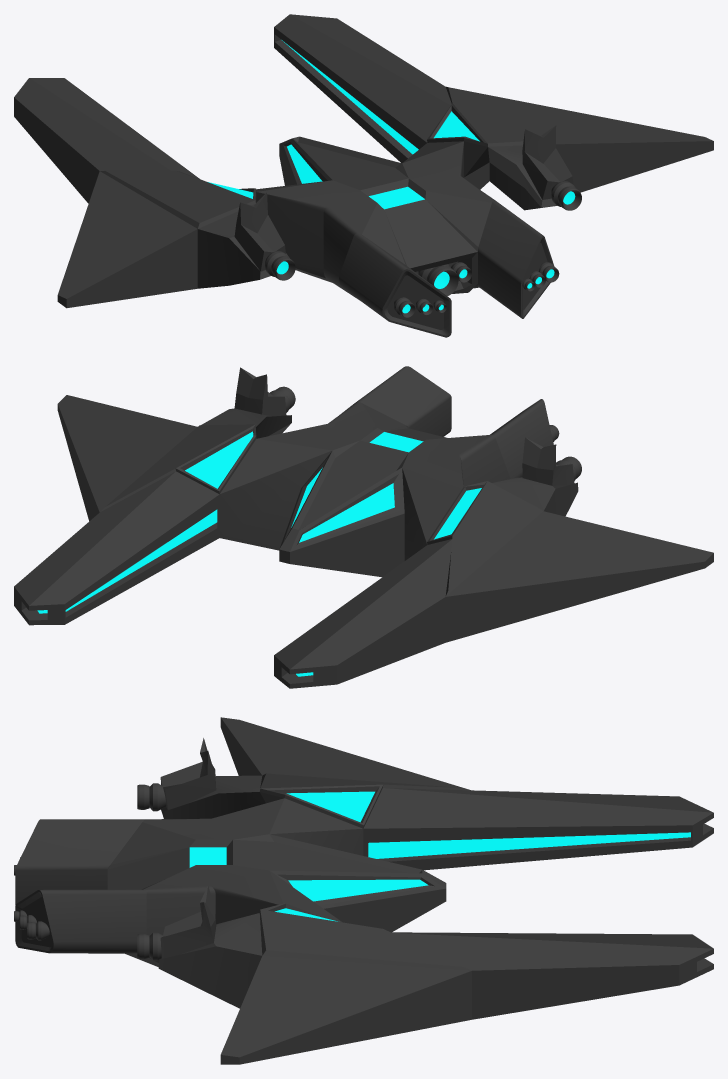
Rendered from SpaceShip_1.fbx.
The picture shows the model from 3 angles, top to bottom: view 1: azimuth 30°, elevation 25°; view 2: azimuth 150°, elevation 25°; view 3: azimuth 270°, elevation 25°; orthographic projection. The views are drawn at different scales.
Visible parts, largest first — view 1: Ship_V1; view 2: Ship_V1; view 3: Ship_V1.
Boxes of the visible parts, x1,y1,x2,y2 form: Ship_V1: (14, 14, 713, 337); Ship_V1: (14, 366, 713, 688); Ship_V1: (14, 717, 713, 1064).
Bounding box in the file's own units: 3266 × 629 × 2863.
